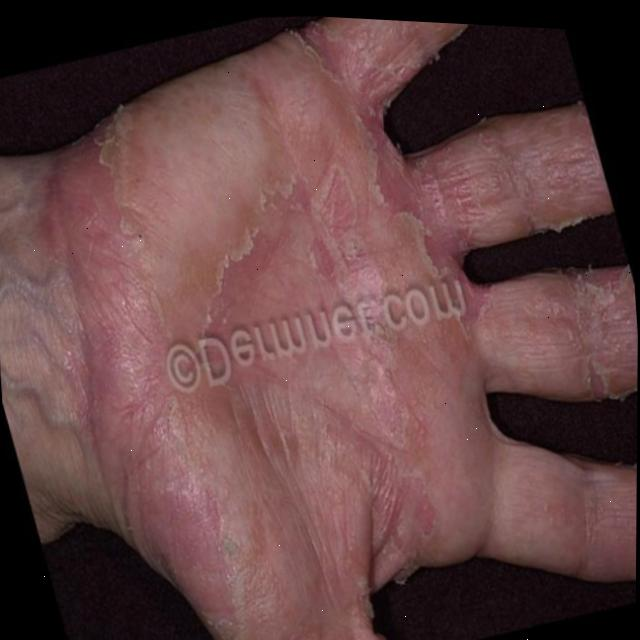Eczema: (85, 100, 605, 555)
